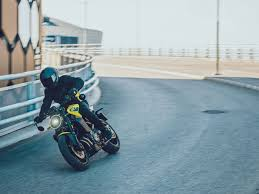motorcycle: (28, 93, 124, 169)
